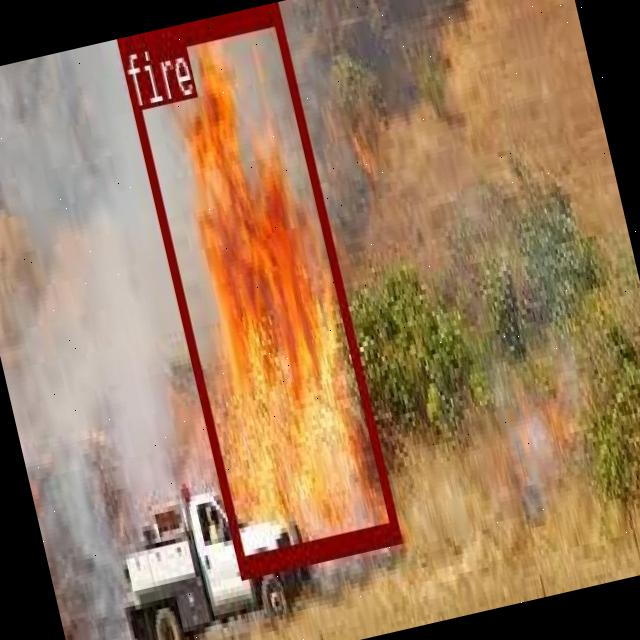fire: (114, 2, 398, 576)
